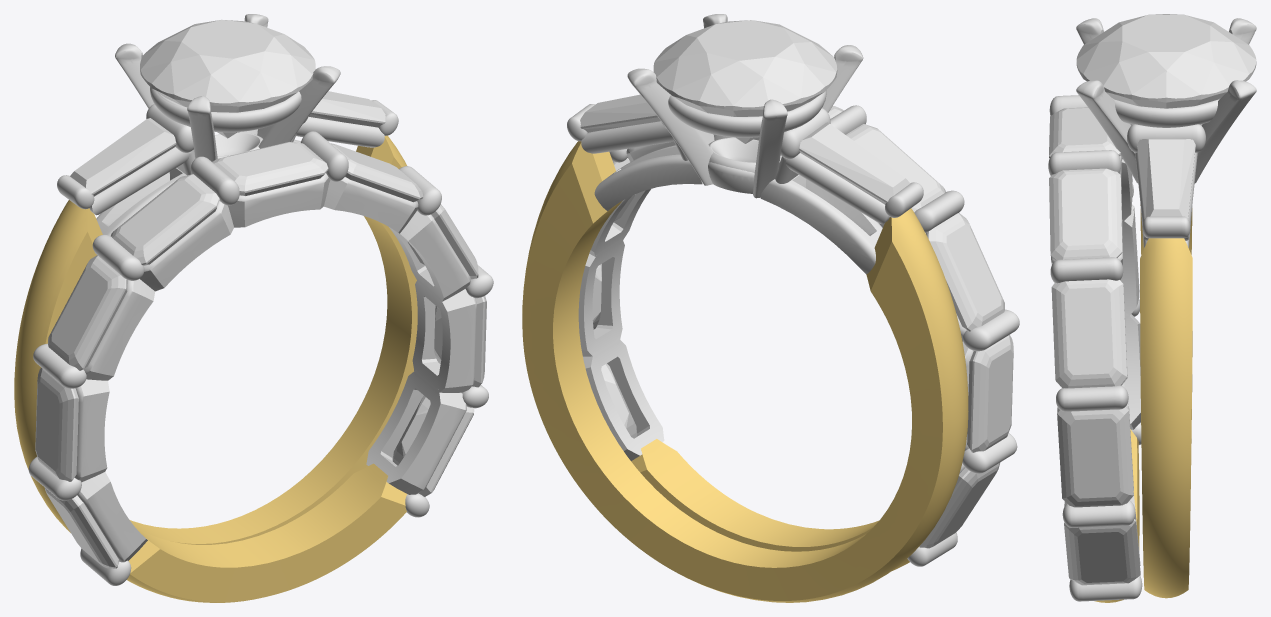
The model's file is AbbyV4BOTH_blender.glb.
3 renders of one model, left to right at view 1: azimuth 30°, elevation 25°; view 2: azimuth 150°, elevation 25°; view 3: azimuth 270°, elevation 25°, orthographic. The views are drawn at different scales.
Parts seen in each view (by area): view 1: v4 Abby PT for 3d model, ENG YG for 3d model, v4 Abby YG for 3d model, ENG PT for 3d model, ENG dia for 3d model.002, v4 Abby dia for 3d model.001, v4 Abby dia for 3d model, v4 Abby dia for 3d model.002, v4 Abby dia for 3d model.008, ENG dia for 3d model, v4 Abby dia for 3d model.007, v4 Abby dia for 3d model.003 (+4 smaller); view 2: ENG YG for 3d model, ENG PT for 3d model, v4 Abby PT for 3d model, ENG dia for 3d model.002, v4 Abby YG for 3d model, v4 Abby dia for 3d model.001, v4 Abby dia for 3d model.002, ENG dia for 3d model, v4 Abby dia for 3d model, v4 Abby dia for 3d model.003, ENG dia for 3d model.001, v4 Abby dia for 3d model.004; view 3: ENG YG for 3d model, ENG dia for 3d model.002, v4 Abby PT for 3d model, ENG PT for 3d model, v4 Abby dia for 3d model.006, v4 Abby dia for 3d model.005, v4 Abby dia for 3d model.007, v4 Abby dia for 3d model.004, ENG dia for 3d model.001, v4 Abby dia for 3d model.008, v4 Abby YG for 3d model.
Boxes of the visible parts, left/top/right/bottom form: v4 Abby PT for 3d model: left=28, top=131, right=493, bottom=585; ENG YG for 3d model: left=14, top=135, right=417, bottom=544; v4 Abby YG for 3d model: left=127, top=463, right=407, bottom=602; ENG PT for 3d model: left=57, top=14, right=398, bottom=235; ENG dia for 3d model.002: left=140, top=19, right=315, bottom=138; v4 Abby dia for 3d model.001: left=48, top=255, right=127, bottom=370; v4 Abby dia for 3d model: left=111, top=174, right=219, bottom=265; v4 Abby dia for 3d model.002: left=35, top=367, right=78, bottom=481; v4 Abby dia for 3d model.008: left=212, top=142, right=328, bottom=195; ENG dia for 3d model: left=70, top=118, right=176, bottom=196; v4 Abby dia for 3d model.007: left=331, top=143, right=423, bottom=202; v4 Abby dia for 3d model.003: left=45, top=488, right=118, bottom=568; ENG YG for 3d model: left=522, top=141, right=968, bottom=602; ENG PT for 3d model: left=567, top=14, right=923, bottom=274; v4 Abby PT for 3d model: left=578, top=105, right=1019, bottom=566; ENG dia for 3d model.002: left=653, top=20, right=837, bottom=143; v4 Abby YG for 3d model: left=631, top=439, right=909, bottom=571; v4 Abby dia for 3d model.001: left=926, top=213, right=1004, bottom=331; v4 Abby dia for 3d model.002: left=967, top=335, right=1013, bottom=452; ENG dia for 3d model: left=799, top=122, right=909, bottom=204; v4 Abby dia for 3d model: left=846, top=124, right=945, bottom=212; v4 Abby dia for 3d model.003: left=919, top=462, right=1000, bottom=548; ENG dia for 3d model.001: left=580, top=94, right=660, bottom=132; v4 Abby dia for 3d model.004: left=601, top=363, right=637, bottom=438; ENG YG for 3d model: left=1140, top=205, right=1192, bottom=598; ENG dia for 3d model.002: left=1076, top=14, right=1256, bottom=108; v4 Abby PT for 3d model: left=1048, top=95, right=1142, bottom=601; ENG PT for 3d model: left=1076, top=18, right=1256, bottom=248; v4 Abby dia for 3d model.006: left=1051, top=279, right=1127, bottom=388; v4 Abby dia for 3d model.005: left=1057, top=407, right=1133, bottom=507; v4 Abby dia for 3d model.007: left=1049, top=168, right=1122, bottom=260; v4 Abby dia for 3d model.004: left=1064, top=519, right=1140, bottom=585; ENG dia for 3d model.001: left=1137, top=139, right=1195, bottom=218; v4 Abby dia for 3d model.008: left=1049, top=107, right=1120, bottom=158; v4 Abby YG for 3d model: left=1094, top=429, right=1139, bottom=602.
Size of the model in its own units: 21.26 by 25.14 by 8.69.
